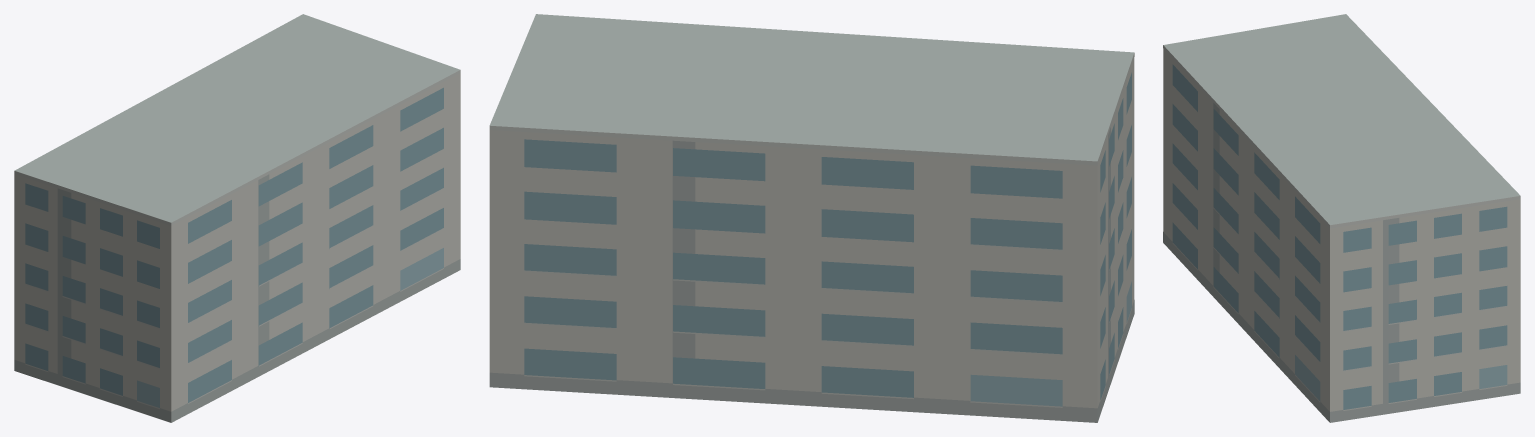
The model's file is survey-upis-32890634.glb.
3 views of the same model, side by side, from view 1: azimuth 30°, elevation 25°; view 2: azimuth 150°, elevation 25°; view 3: azimuth 270°, elevation 25° (orthographic). The views are drawn at different scales.
Parts seen in each view (by area): view 1: survey-upis-32890634.tmp; view 2: survey-upis-32890634.tmp; view 3: survey-upis-32890634.tmp.
Part boxes in pixels (x1,y1,x2,y2): survey-upis-32890634.tmp: (14,14,460,422); survey-upis-32890634.tmp: (489,14,1134,422); survey-upis-32890634.tmp: (1163,14,1520,422).
Bounding box in the file's own units: 34.6 × 15.1 × 24.75.
